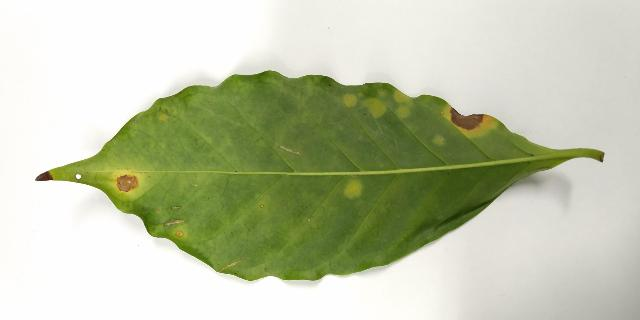miner: (440, 100, 502, 139), (363, 88, 386, 117), (114, 170, 140, 193), (393, 88, 412, 117), (344, 178, 362, 197), (342, 94, 357, 107), (37, 172, 53, 181), (435, 138, 443, 144)
